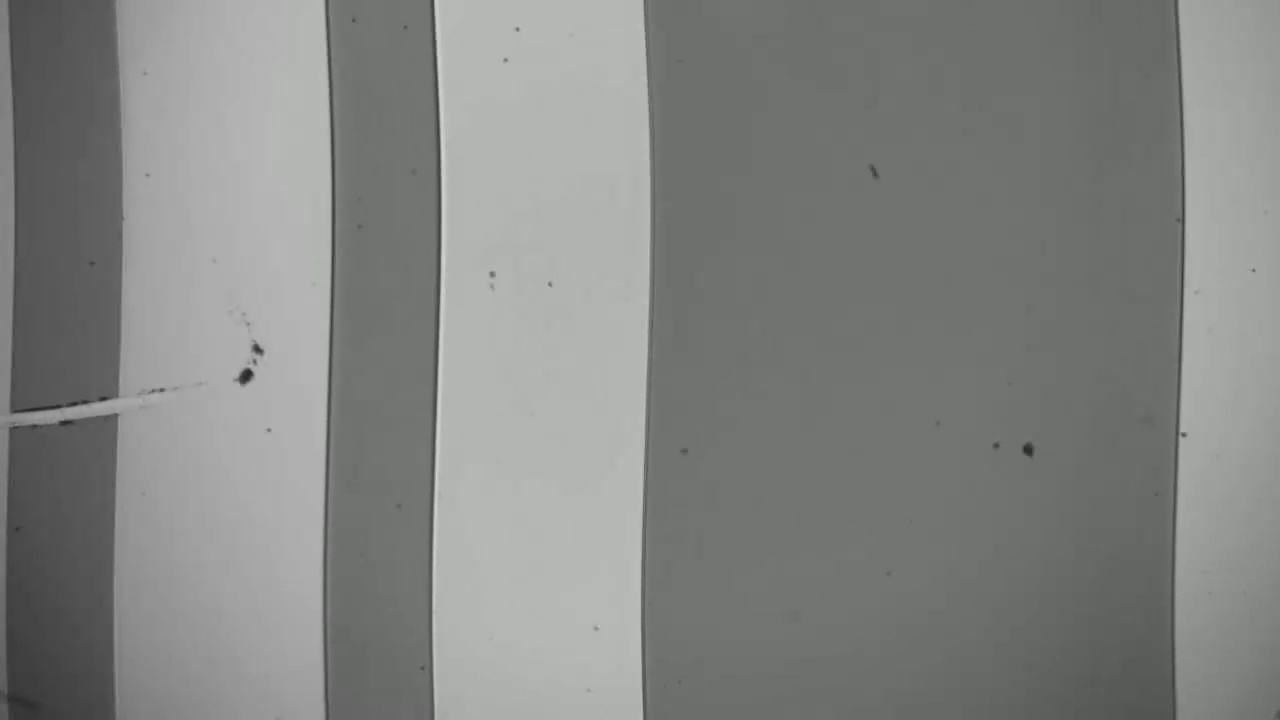Short_circuit: (1, 369, 159, 453)
